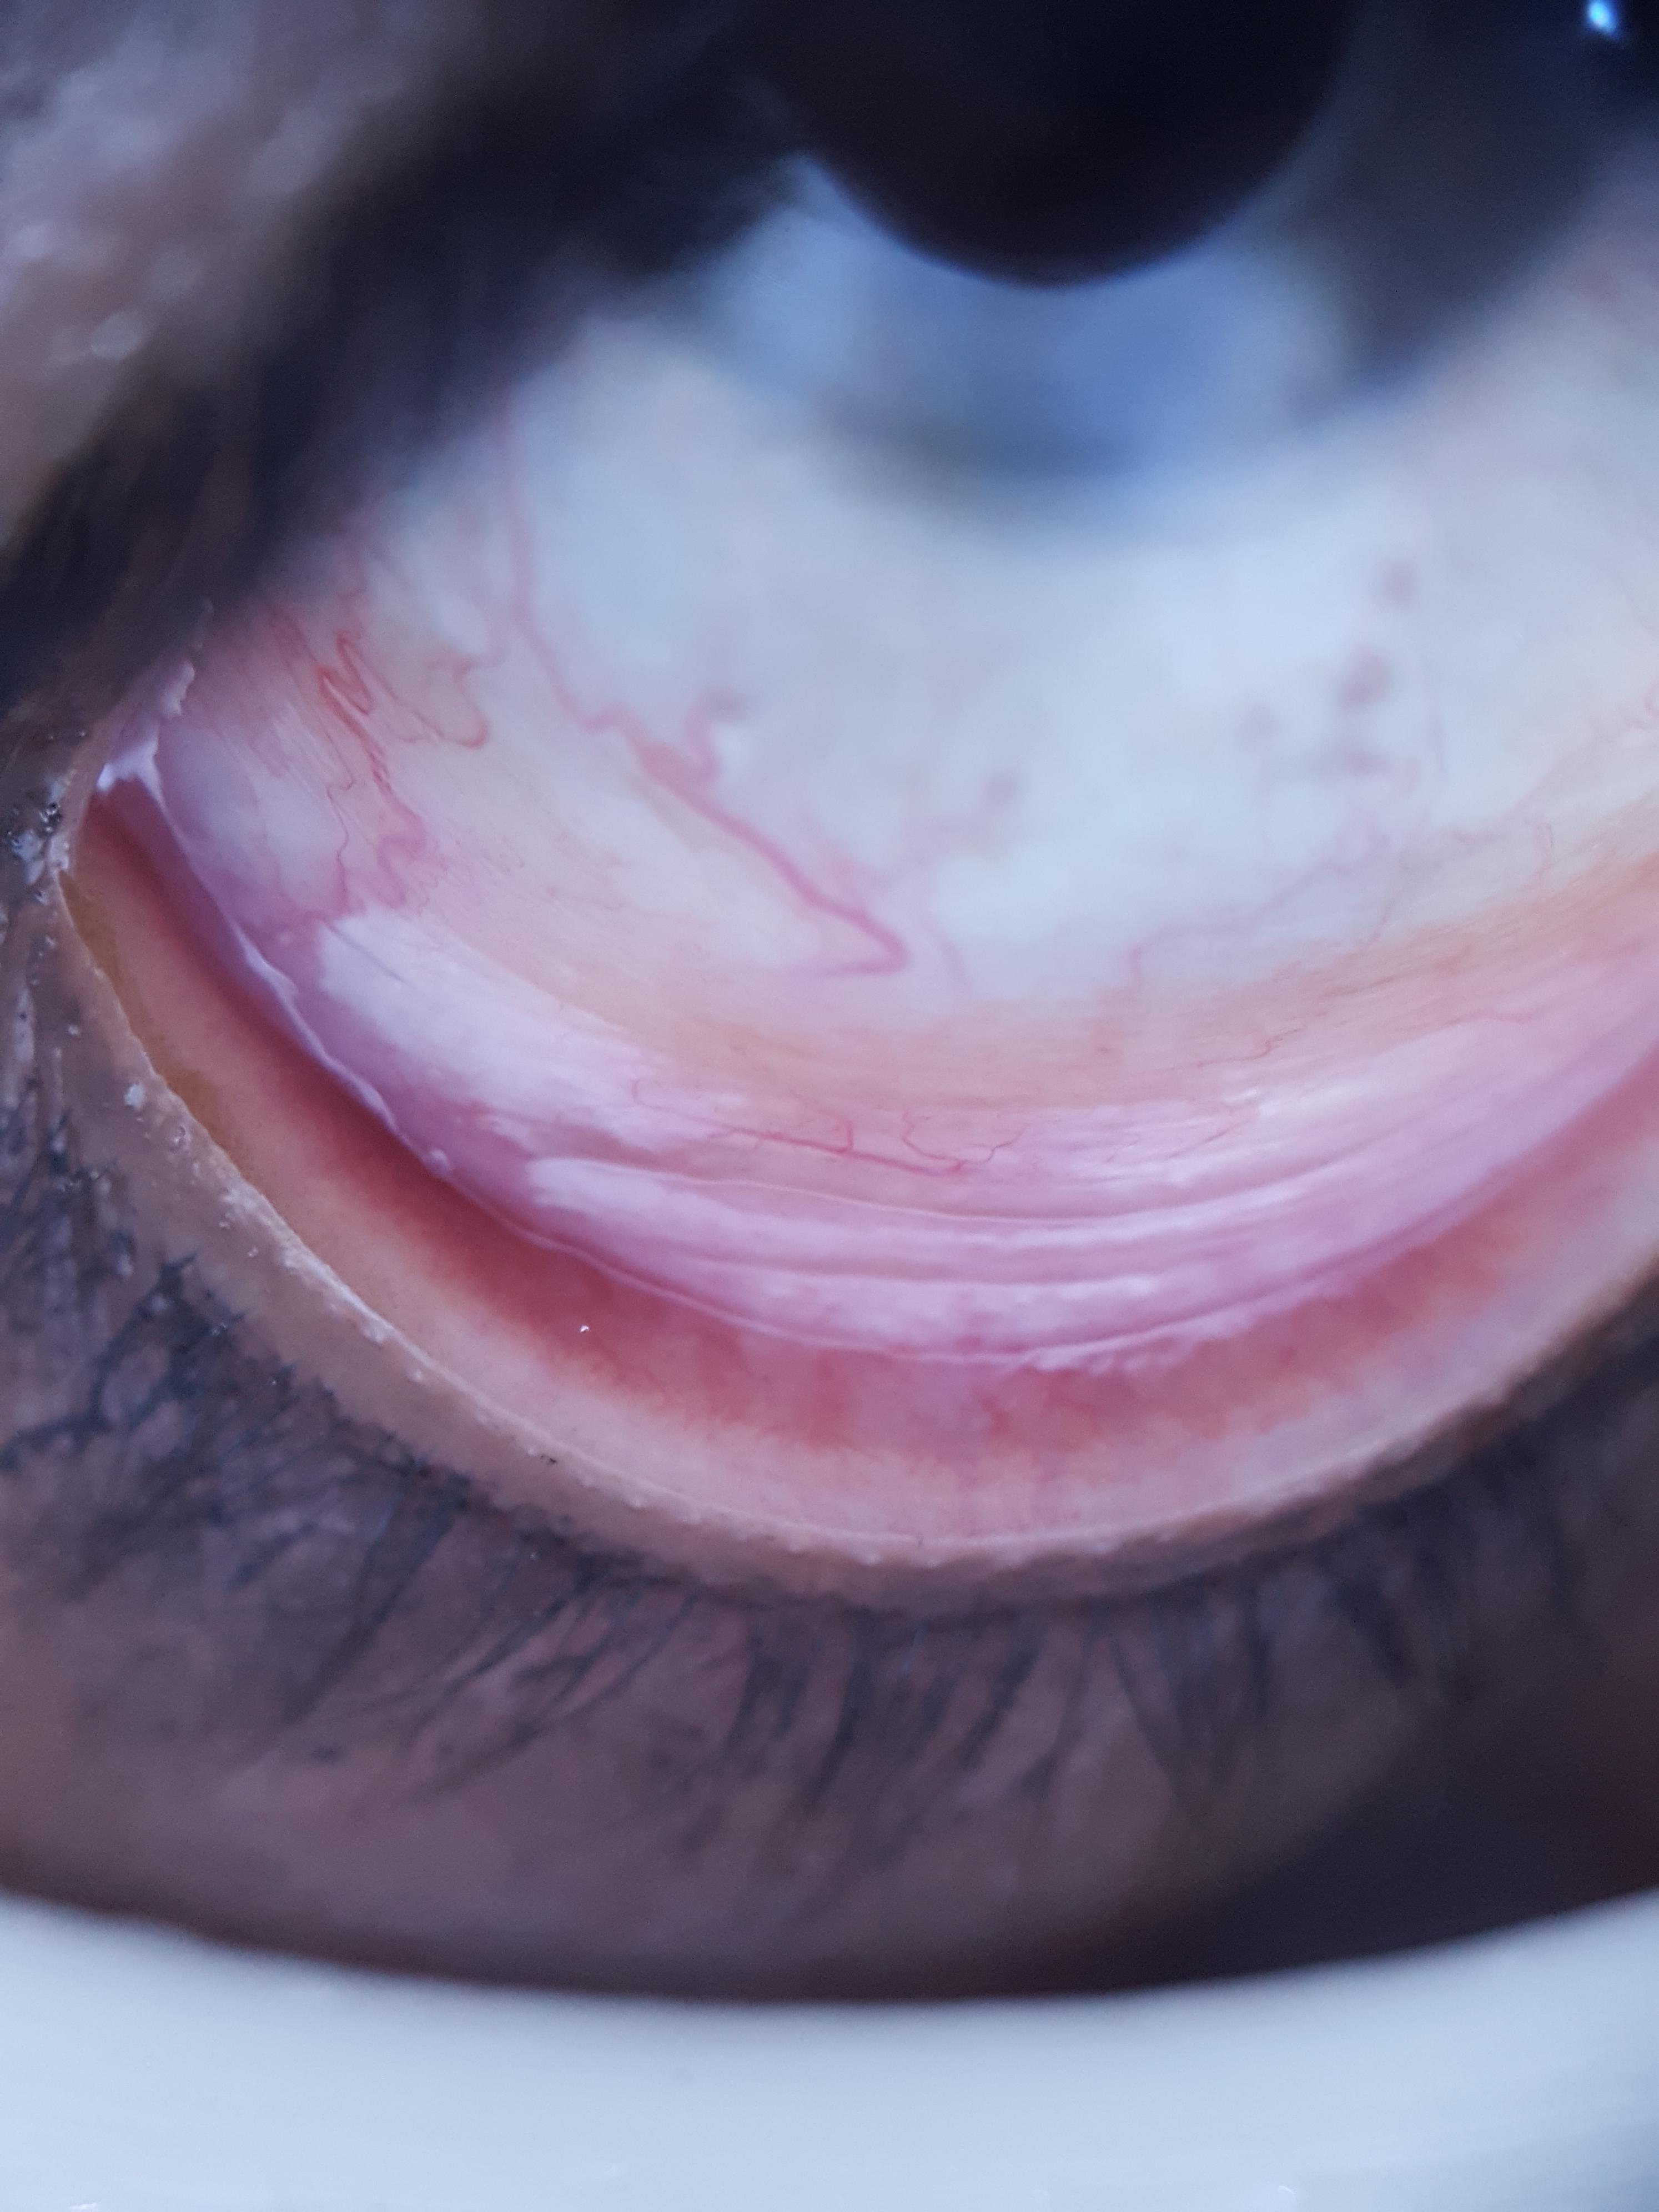forniceal: (138, 651, 1659, 1360)
forniceal_palpebral: (87, 641, 1659, 1482)
palpebral: (101, 777, 1659, 1463)
